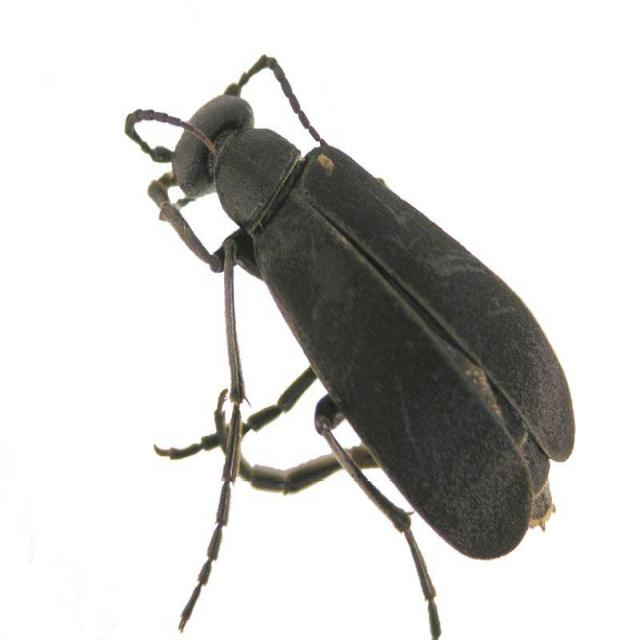BlisterBeetle-Adult-: (114, 46, 581, 588)
